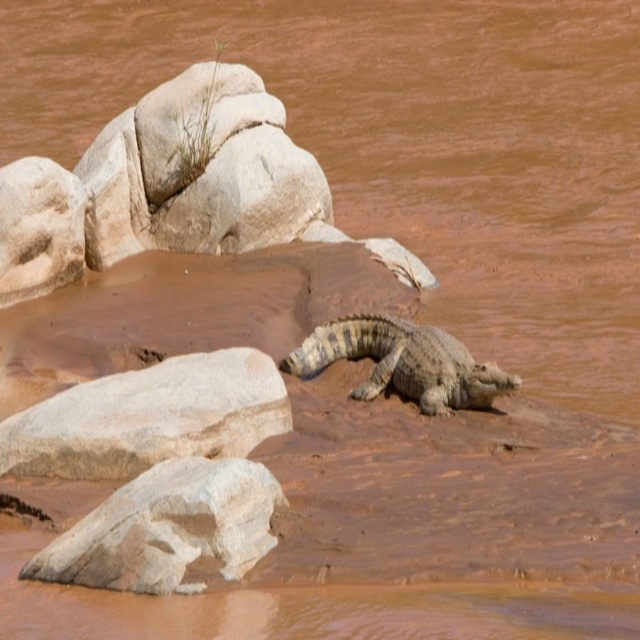Lizard: (282, 315, 518, 423)
